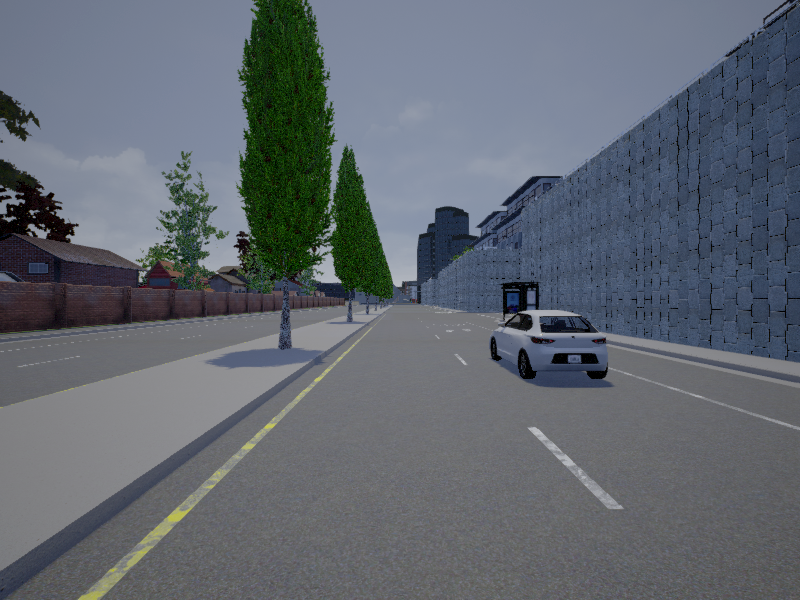Benign: (490, 313, 609, 377)
